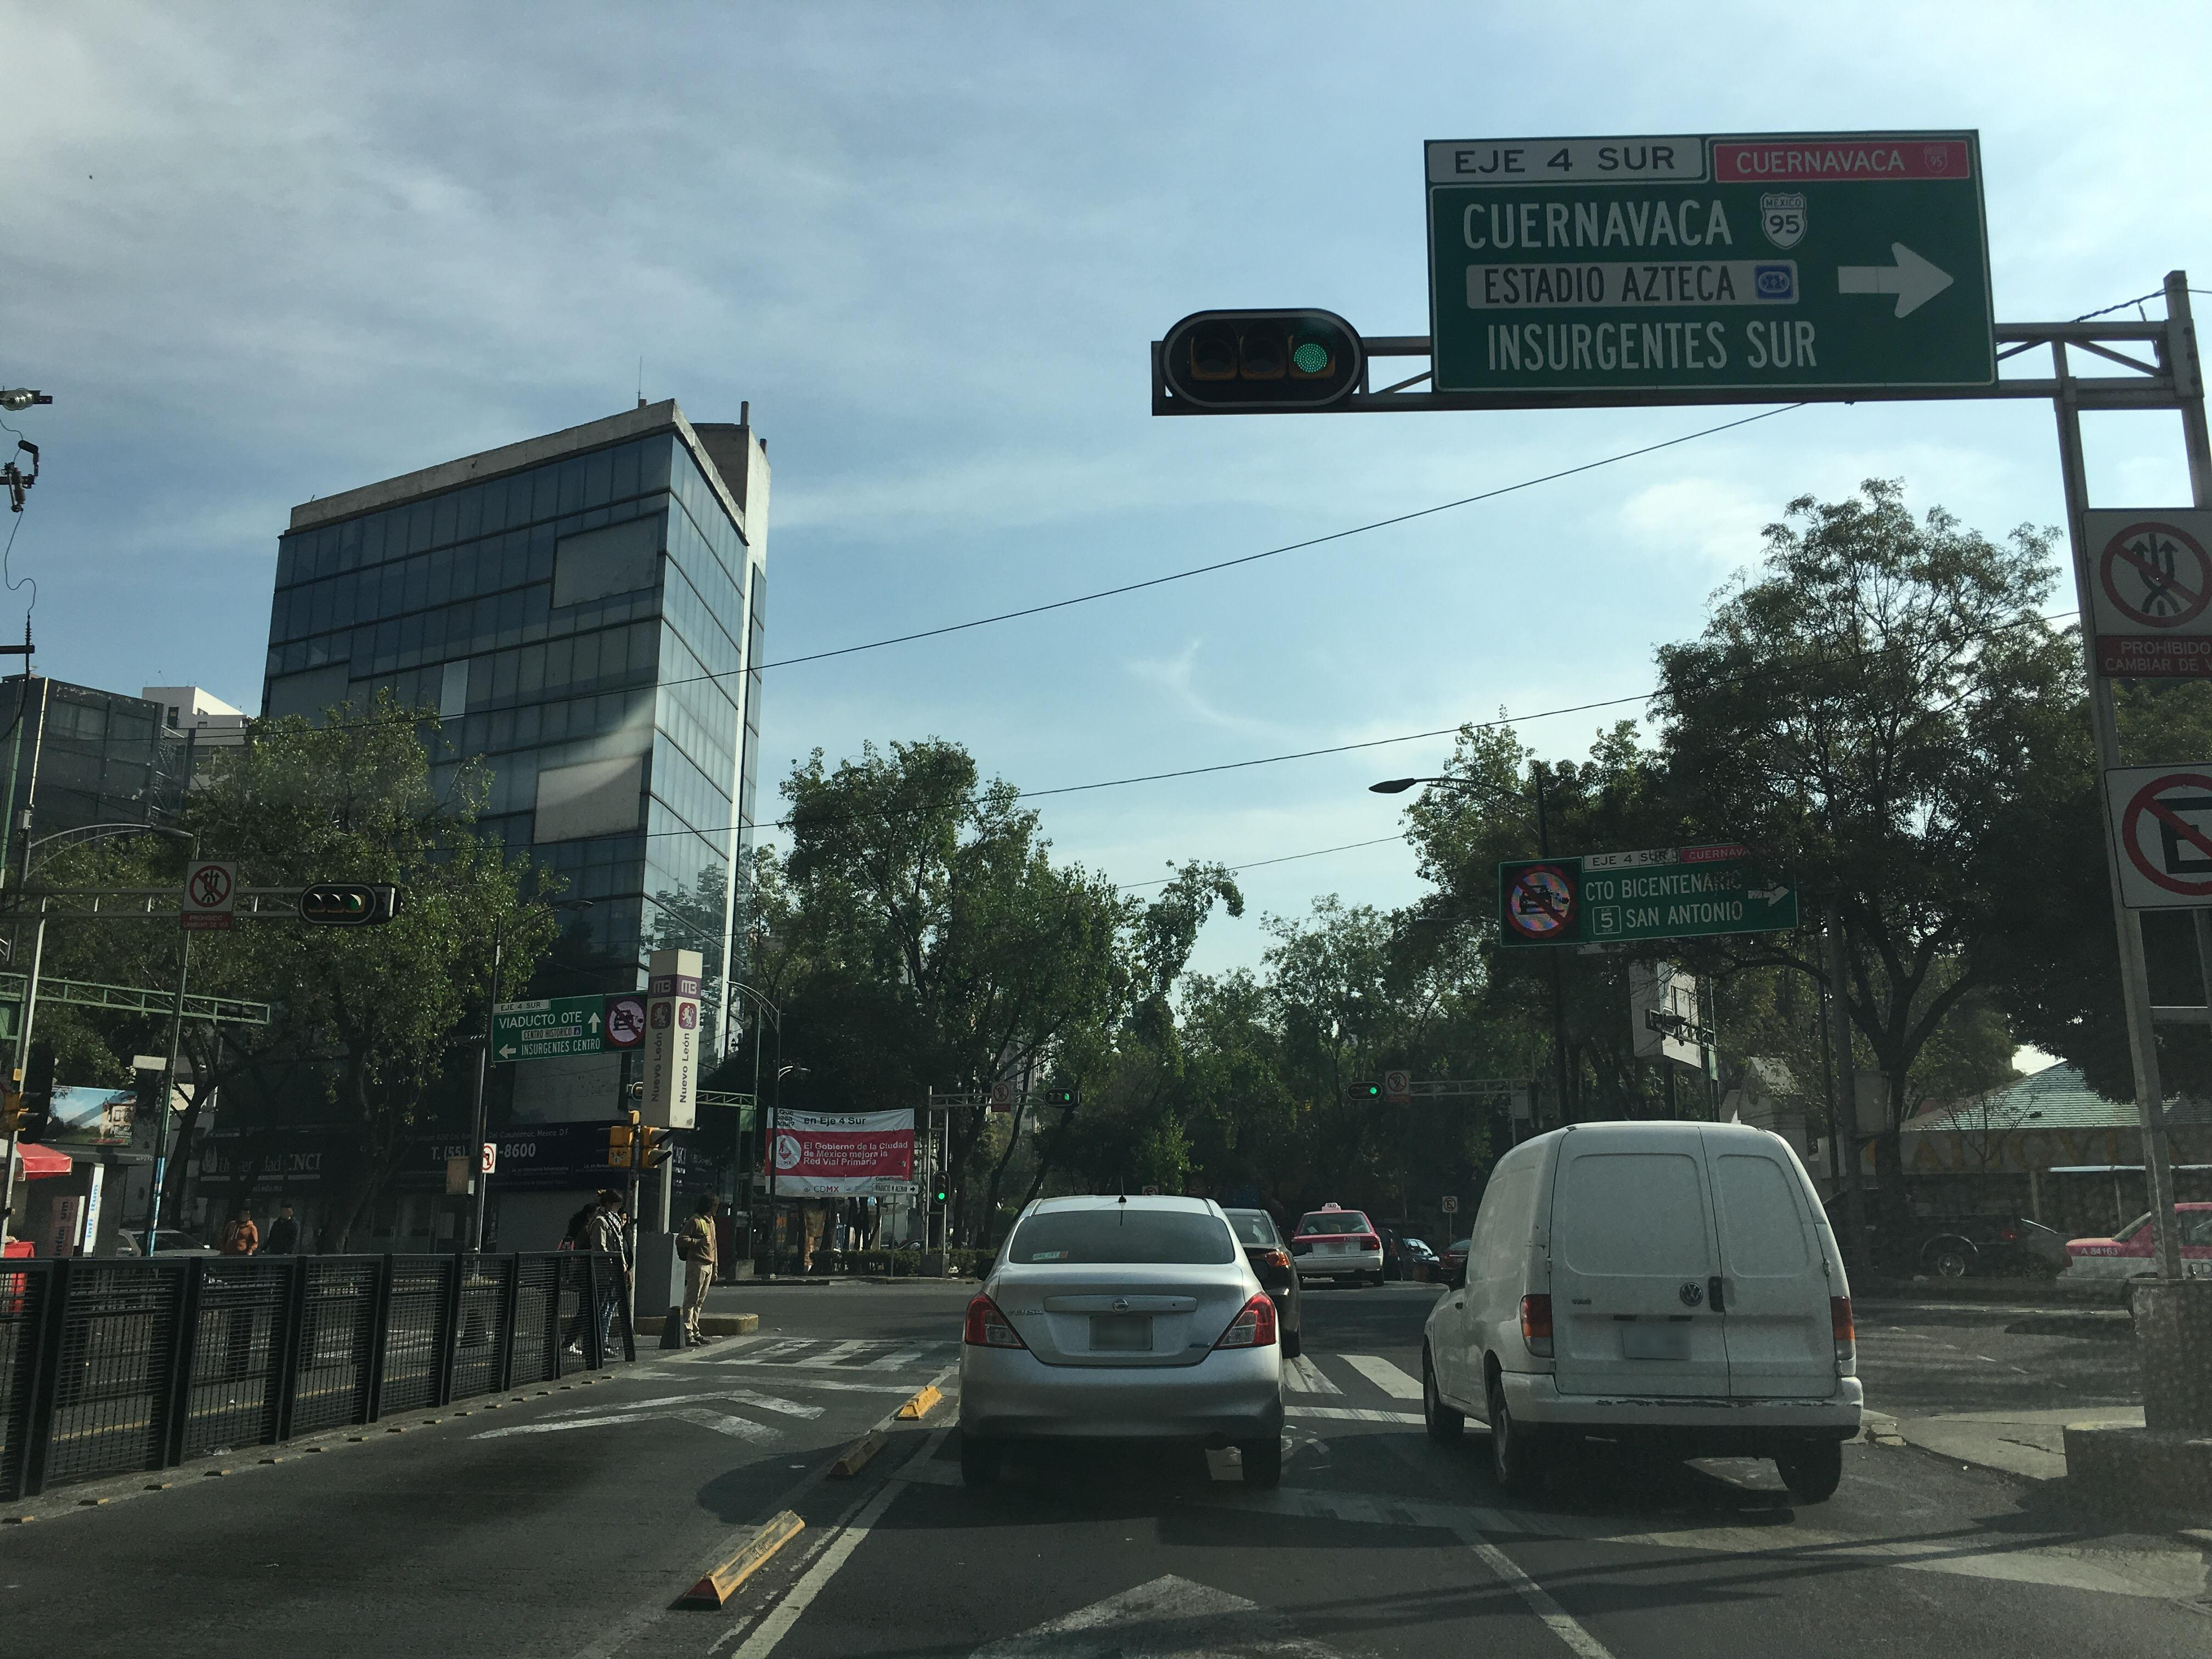vinyl banner: (765, 1077, 937, 1241)
